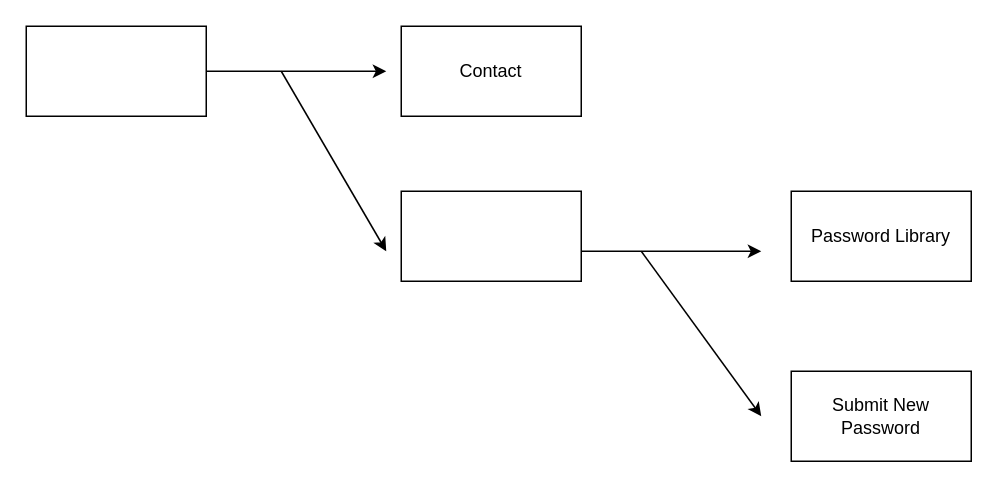
Some shapes in this 998 by 488 pixel diagram are drawn without their labels. The box of each missing label's shape, as (x1, y1, x2, y2) in pixels:
Home Page: (25, 25, 206, 116)
Login: (400, 190, 581, 281)
